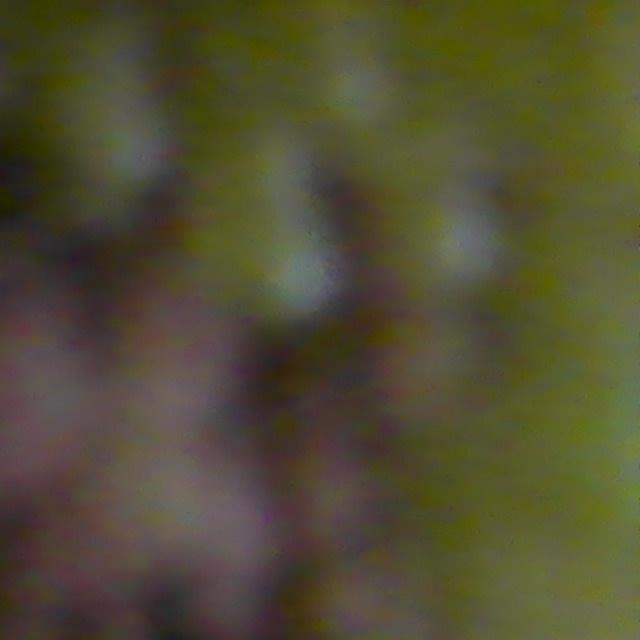SeaGrape: (404, 197, 511, 299), (251, 230, 349, 329)
